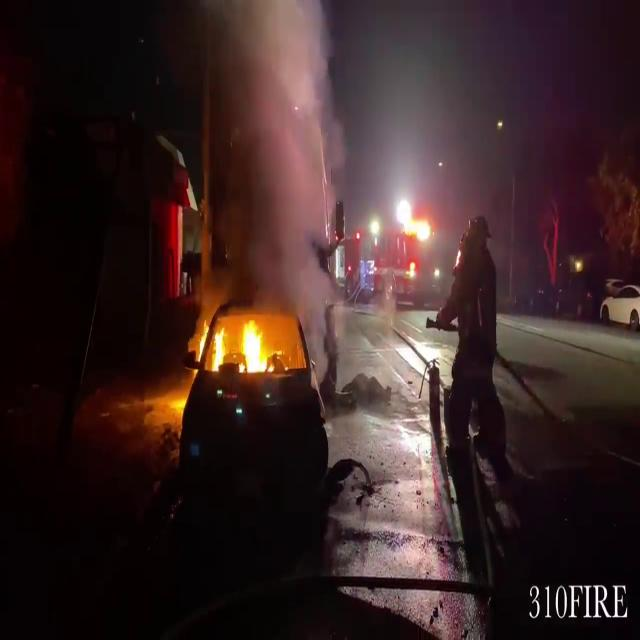Fire: (210, 312, 274, 379)
Smoke: (208, 0, 340, 340)
